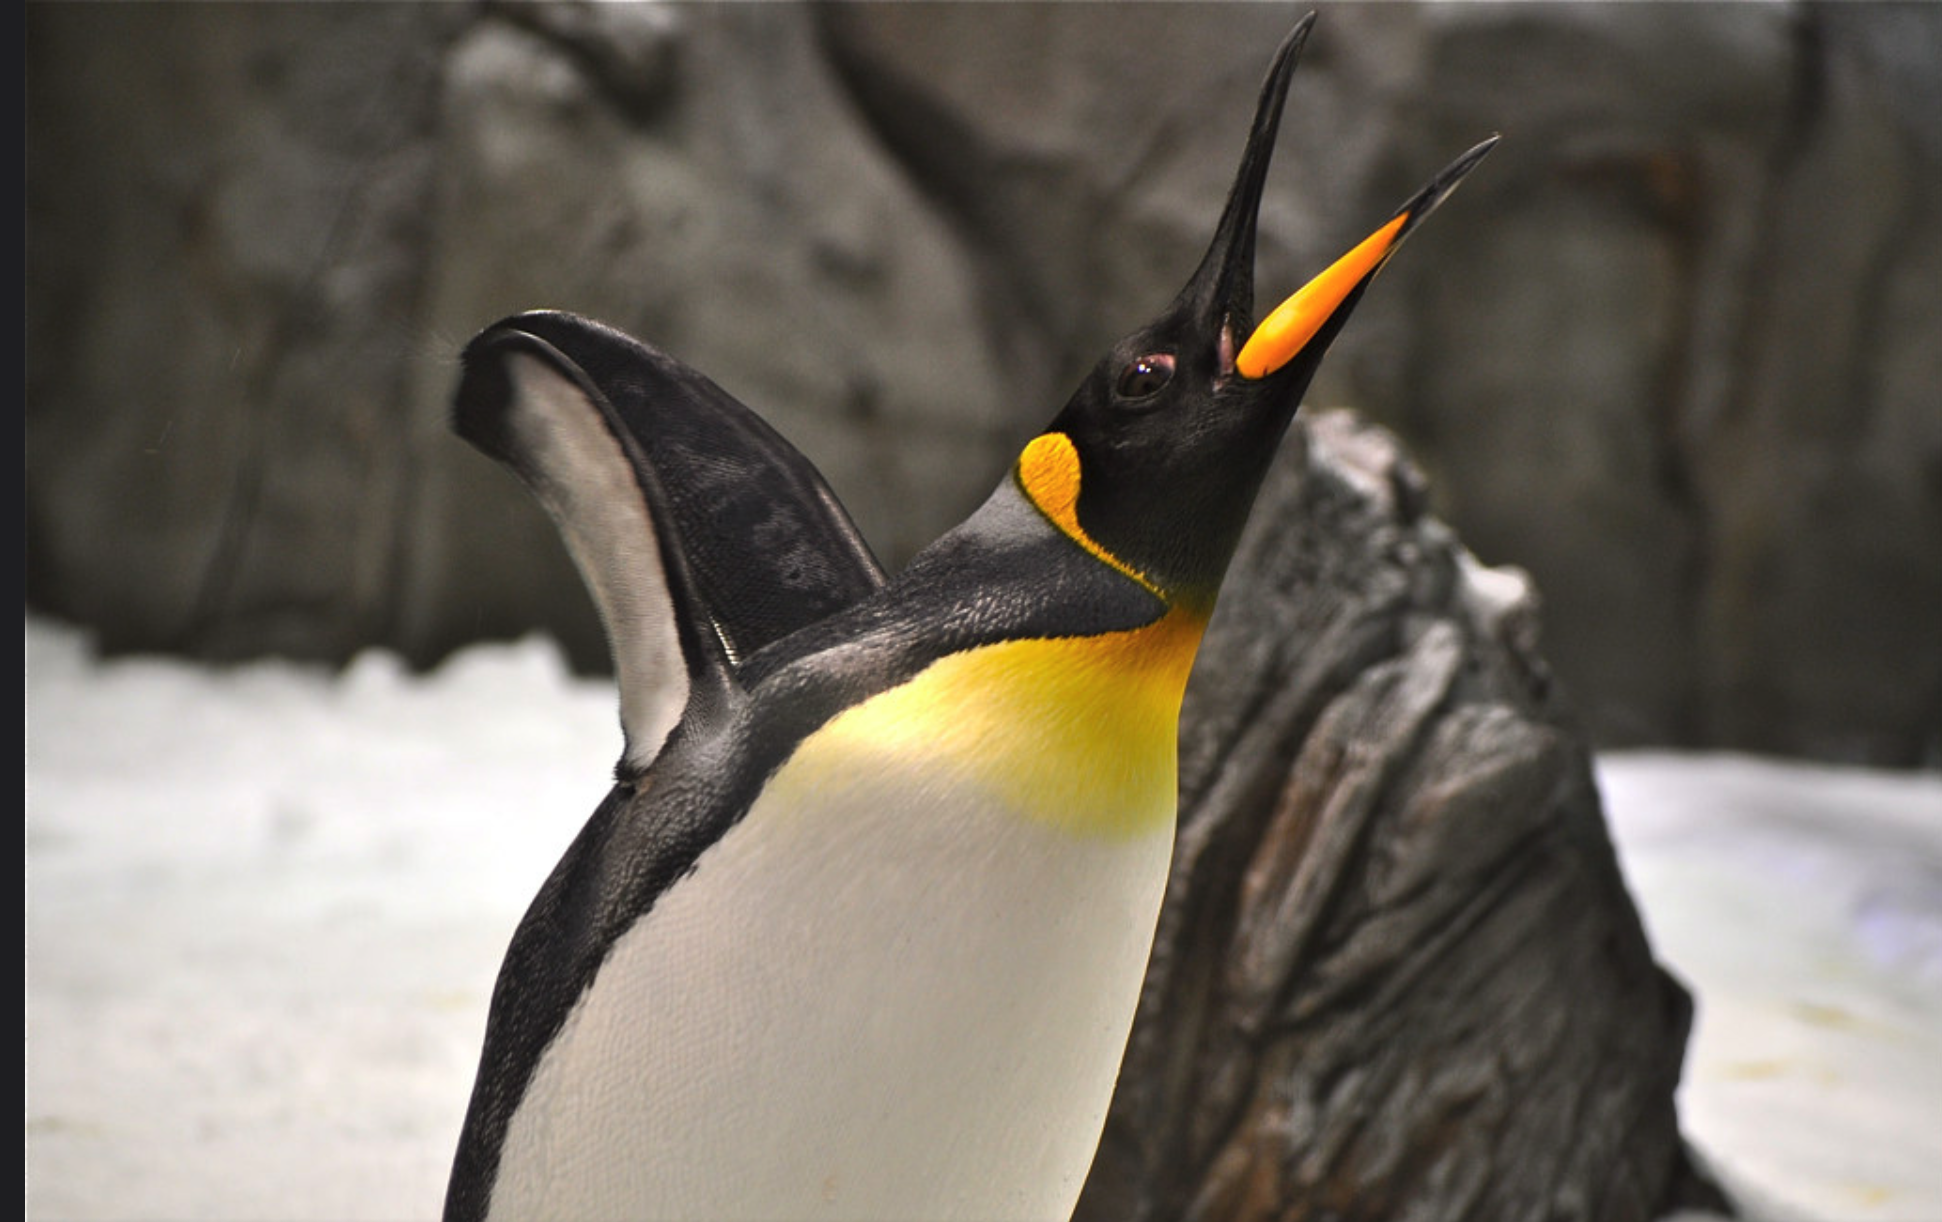penguin: (449, 24, 1524, 1222)
